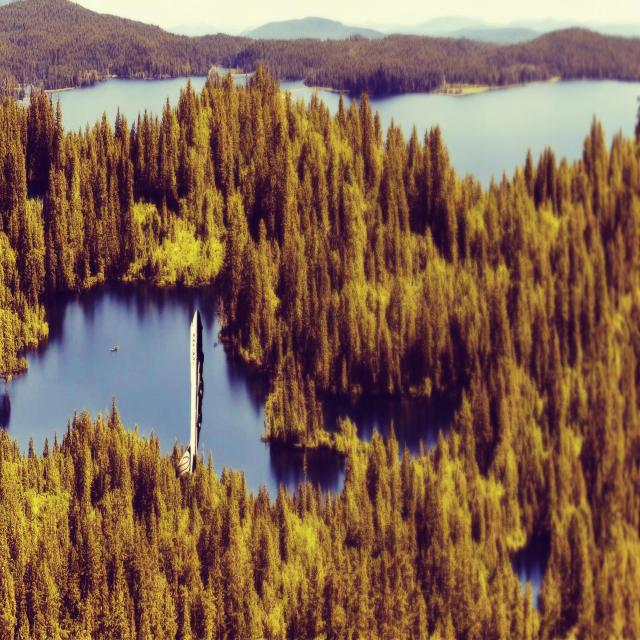airplane: (175, 308, 204, 479)
